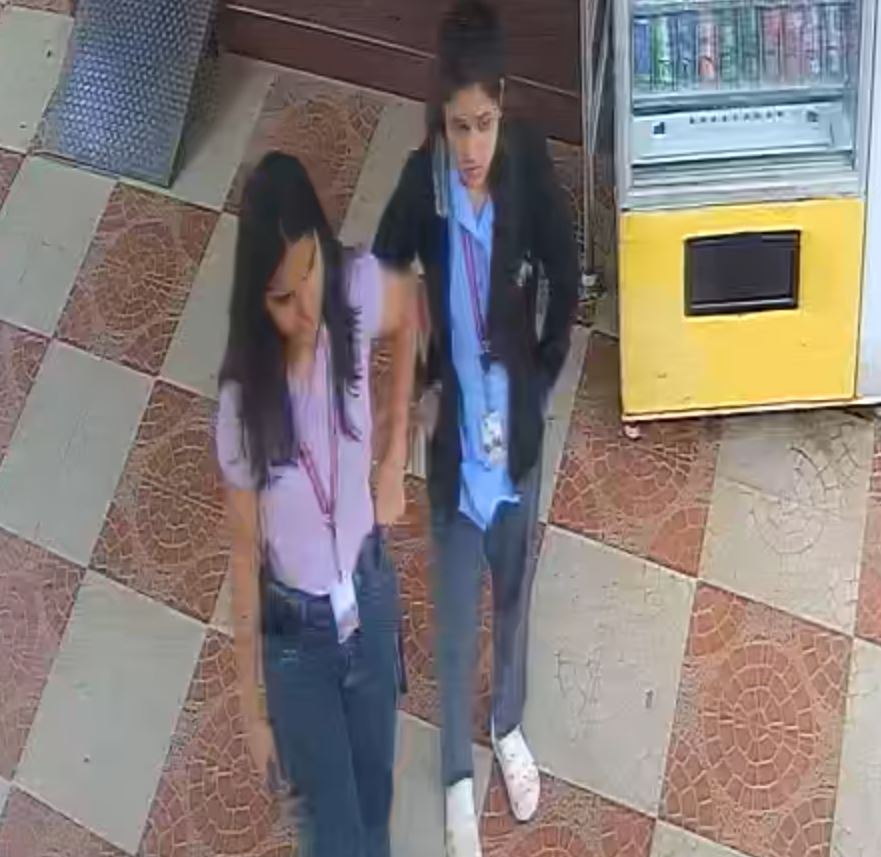intruder: (203, 133, 435, 849), (395, 3, 580, 841)
